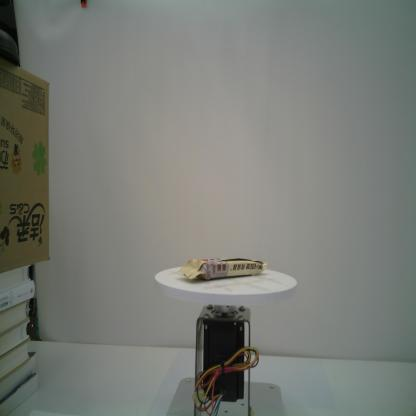Chocolate: (175, 257, 268, 280)
